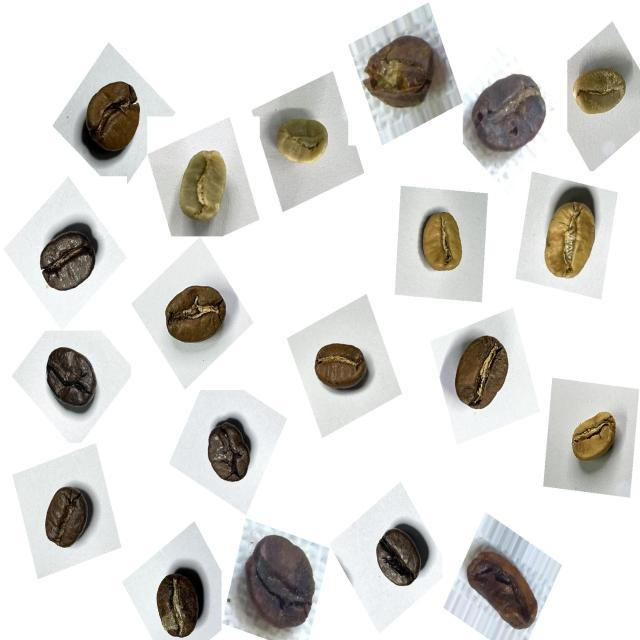bad: (235, 523, 325, 637), (466, 61, 552, 165), (459, 537, 546, 638)
dark: (28, 218, 105, 308), (38, 333, 111, 420), (362, 515, 432, 600), (195, 407, 262, 493)
green: (166, 138, 238, 235), (267, 104, 339, 180), (566, 56, 636, 130)
light: (532, 184, 610, 294), (408, 200, 476, 287), (558, 399, 627, 480)
medium: (443, 325, 522, 423), (73, 72, 150, 170), (154, 275, 233, 358), (34, 475, 102, 561), (141, 558, 212, 640), (308, 331, 377, 402)
